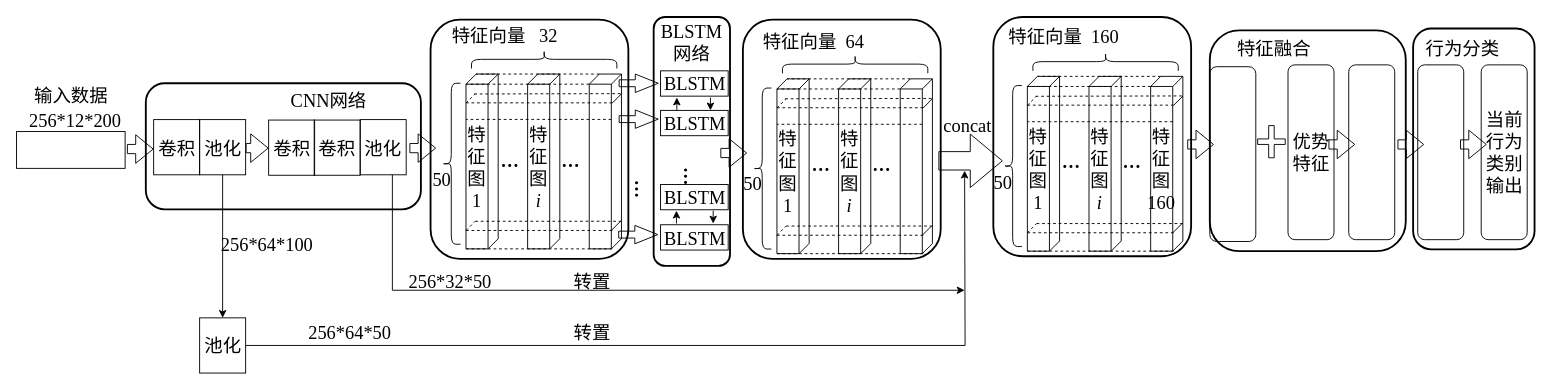
Some shapes in this 1551 by 389 pixel diagram are drawn without their labels. Each missing label, with the box of its shape:
传感器数据: (16, 131, 125, 168)
全连接层 + soft max 层: (1417, 64, 1464, 240)
均值池化特征: (1209, 66, 1256, 242)
特征图 32: (588, 73, 621, 249)
特征图 64: (899, 78, 932, 254)
融合特征向量: (1348, 64, 1395, 240)
